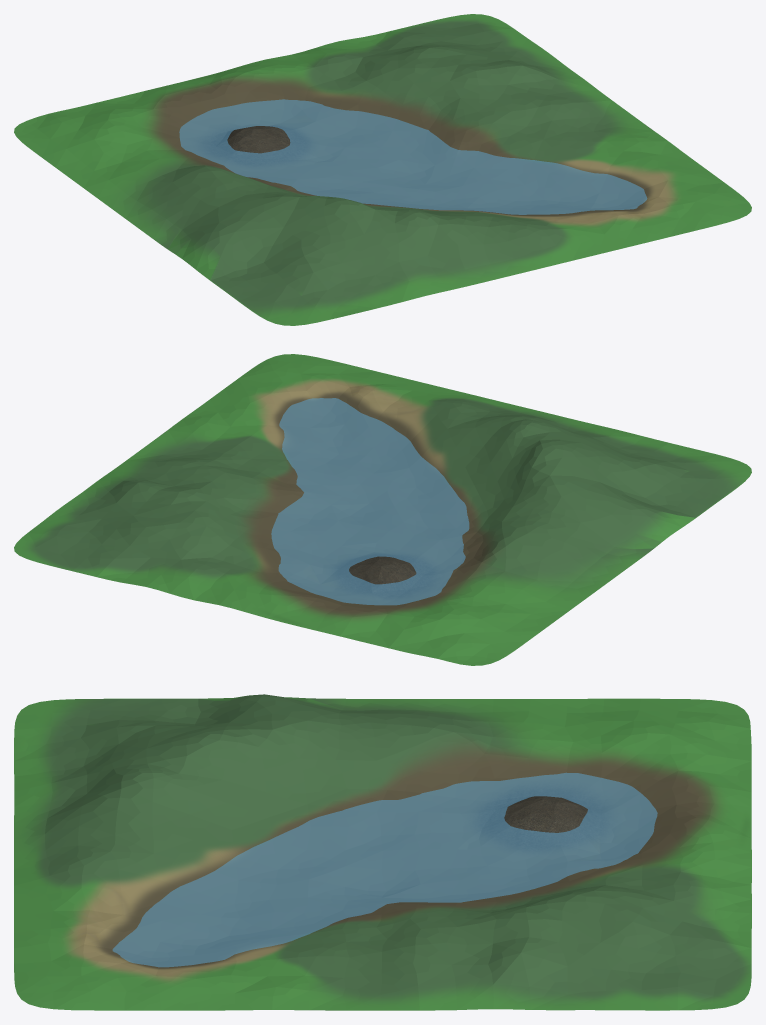
File: world.glb
The picture shows the model from 3 angles, top to bottom: view 1: azimuth 30°, elevation 25°; view 2: azimuth 150°, elevation 25°; view 3: azimuth 270°, elevation 25°; orthographic projection. The views are drawn at different scales.
Parts seen in each view (by area): view 1: ground, water; view 2: ground, water; view 3: ground, water.
Part boxes in pixels (left/top/right/bottom): ground: left=14, top=14, right=751, bottom=325; water: left=179, top=99, right=647, bottom=214; ground: left=14, top=354, right=751, bottom=665; water: left=271, top=398, right=469, bottom=605; ground: left=14, top=694, right=751, bottom=1010; water: left=112, top=772, right=657, bottom=967.
Size of the model in its own units: 100 by 10.27 by 100.
Materials: 2 (1 with a texture image).
